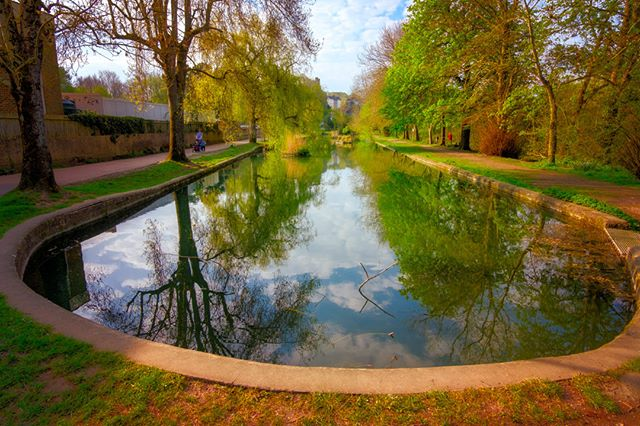river: (76, 125, 592, 361)
vegetation: (370, 1, 640, 180), (1, 1, 307, 145)
